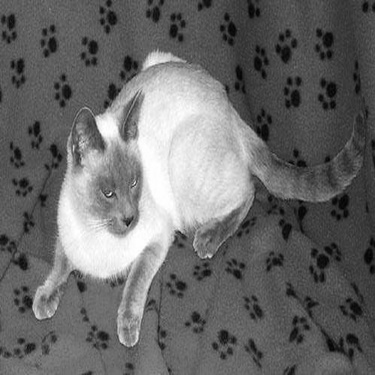cat: (34, 52, 365, 350)
